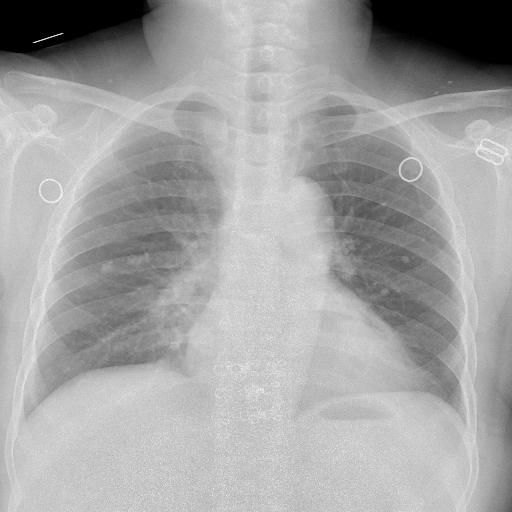Aortic enlargement: (238, 134, 302, 216)
Cardiomegaly: (71, 276, 303, 352)
Lung Opacity: (112, 244, 140, 260)
Nodule-Mass: (94, 257, 108, 269), (394, 248, 406, 260)
